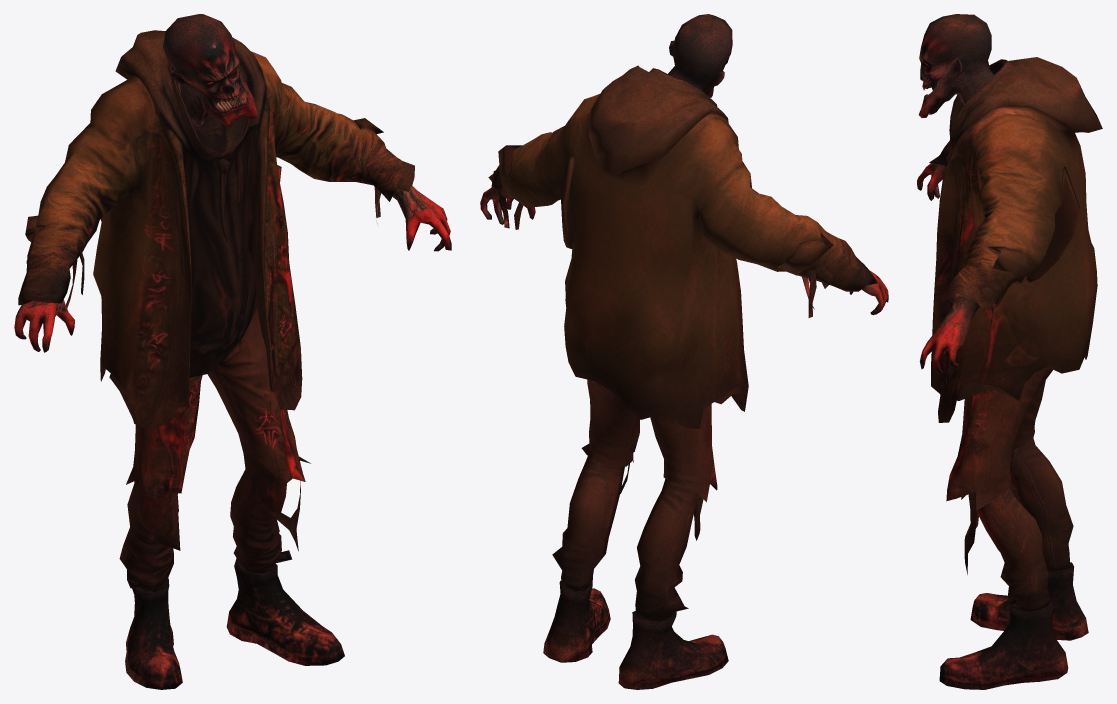
File: zombie_demon.glb
The picture shows the model from 3 angles, left to right: view 1: azimuth 30°, elevation 25°; view 2: azimuth 150°, elevation 25°; view 3: azimuth 270°, elevation 25°; orthographic projection. The views are drawn at different scales.
Visible parts, largest first — view 1: mesh_node; view 2: mesh_node; view 3: mesh_node.
Boxes of the visible parts, <box> form: mesh_node: <box>14,14,451,689</box>; mesh_node: <box>480,14,888,689</box>; mesh_node: <box>917,14,1102,689</box>.
Bounding box in the file's own units: 0.6738 × 1 × 0.2754.
Materials: 1 (1 with a texture image).
